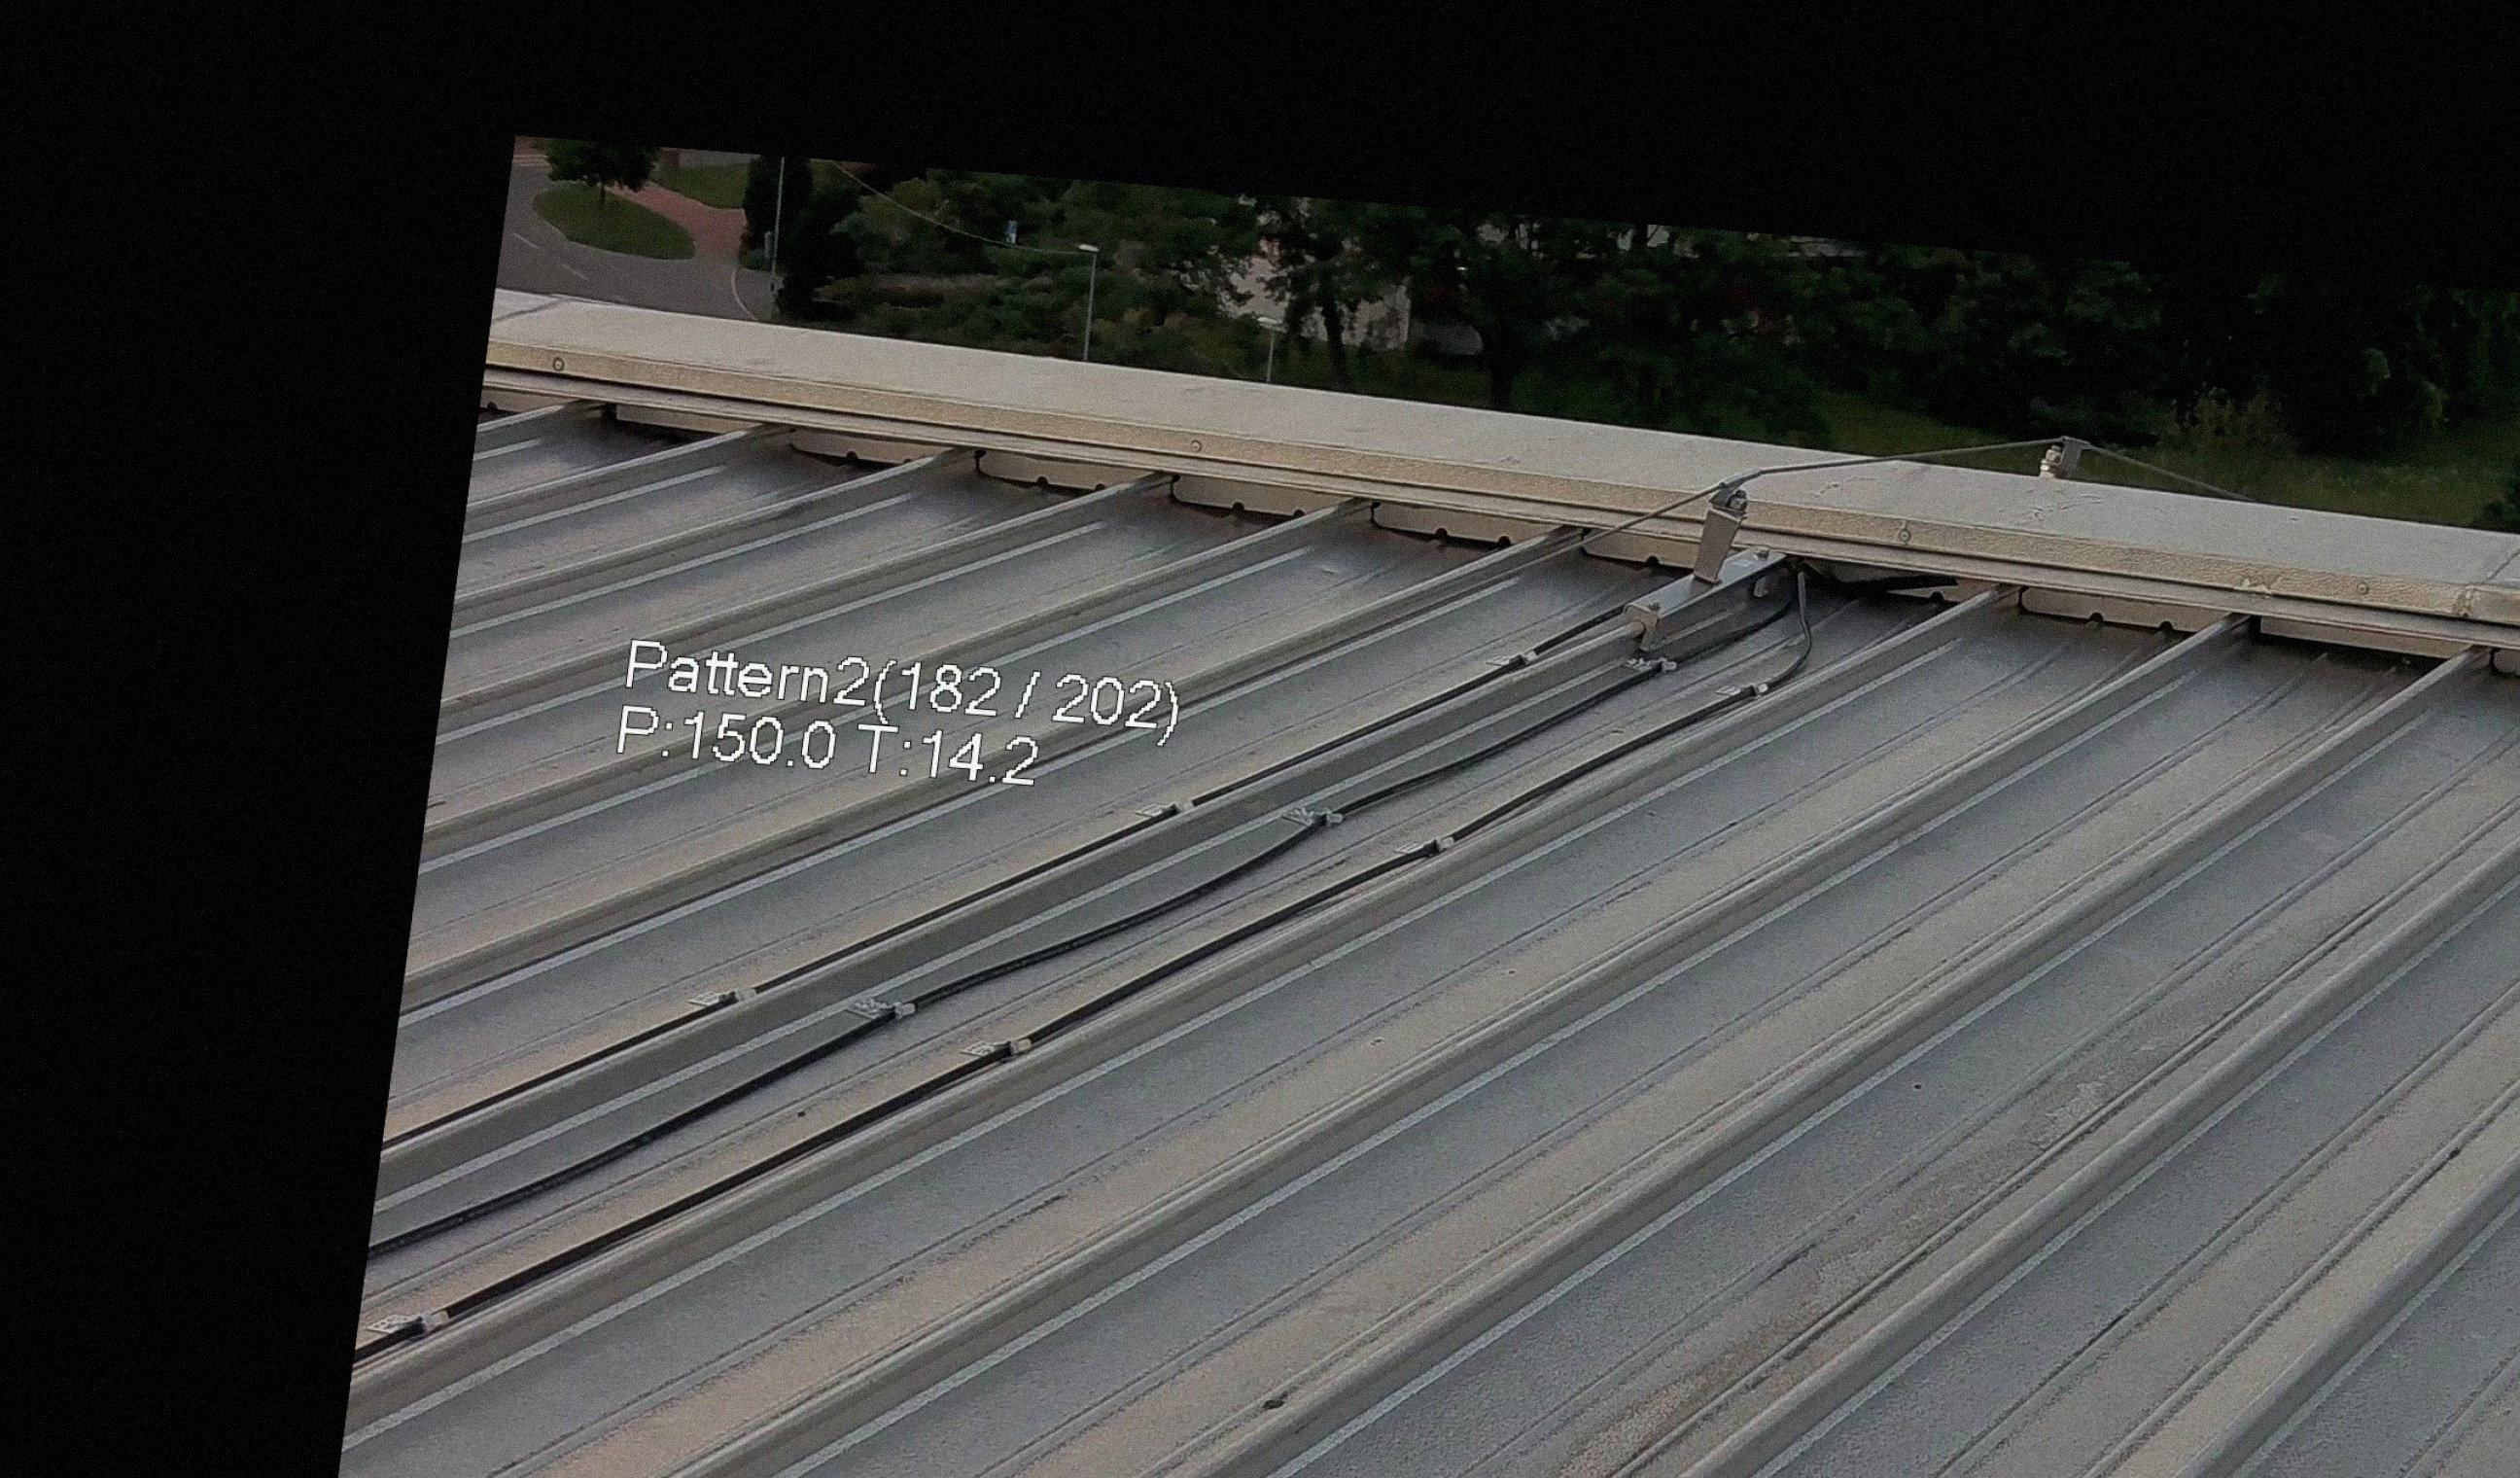Other: (2031, 426, 2089, 486)
